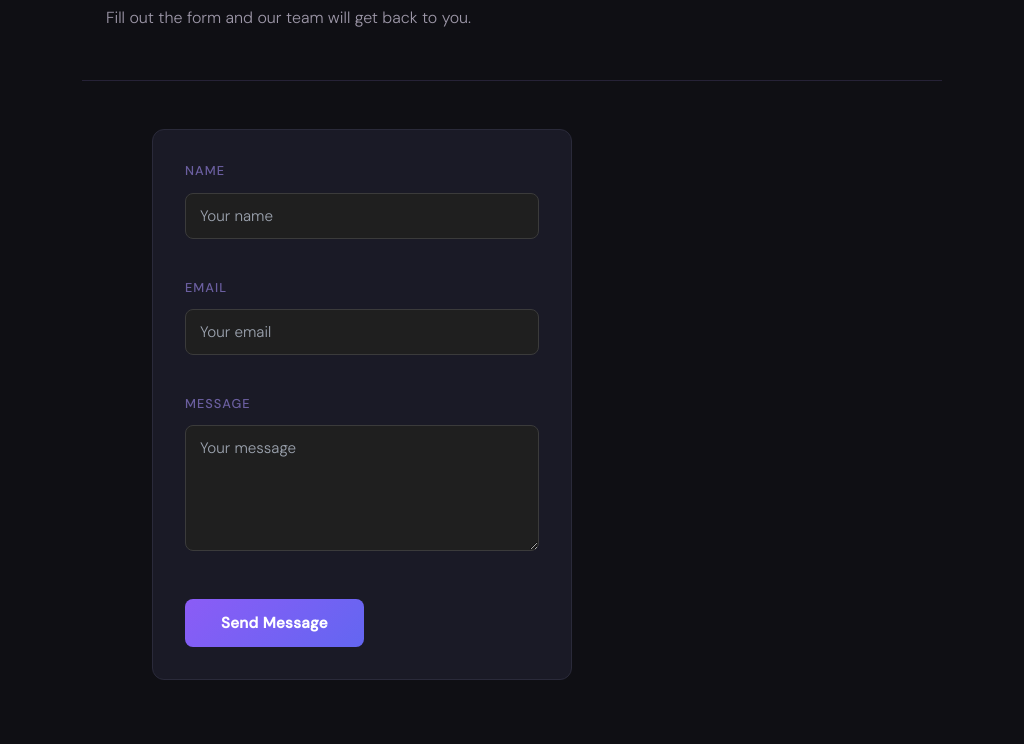
Test: Contact › shows validation errors when submitted empty
This screenshot has width=1024, height=744.
(page scrolled)
What coordinates should you click on to do the following:
click the button "Send Message"
I would click on:
 (274, 623)
Its box is [185,599,364,647].
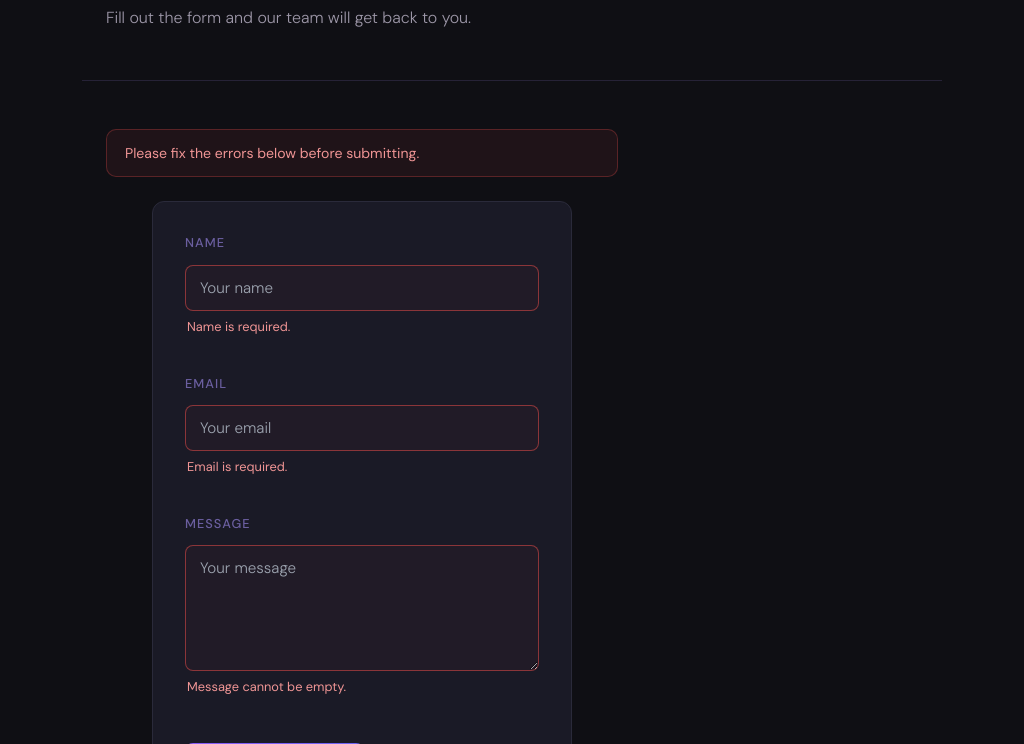
Check: the text "Name is required." is shown, box [187,318,290,335]
Check: the text "Email is required." is shown, box [187,458,287,475]
Check: the text "Message cannot be empty." is shown, box [187,678,346,695]
